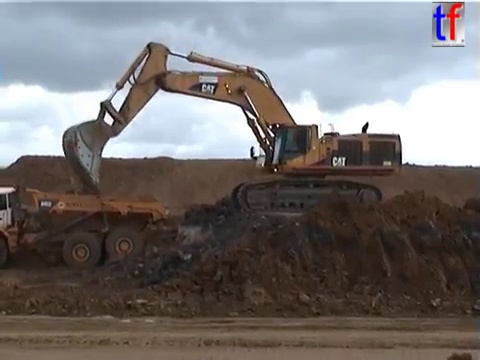excavator: (60, 38, 405, 217)
truck: (1, 182, 171, 272)
